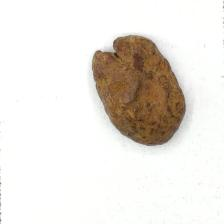NG: (95, 35, 151, 73)
